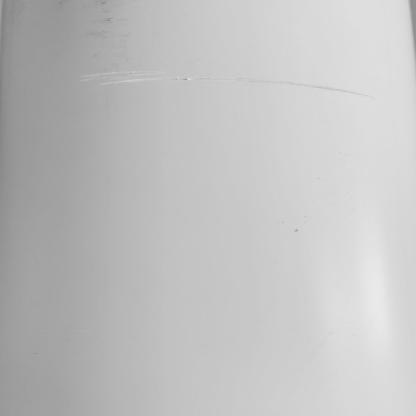sunshang: (81, 68, 373, 98)
